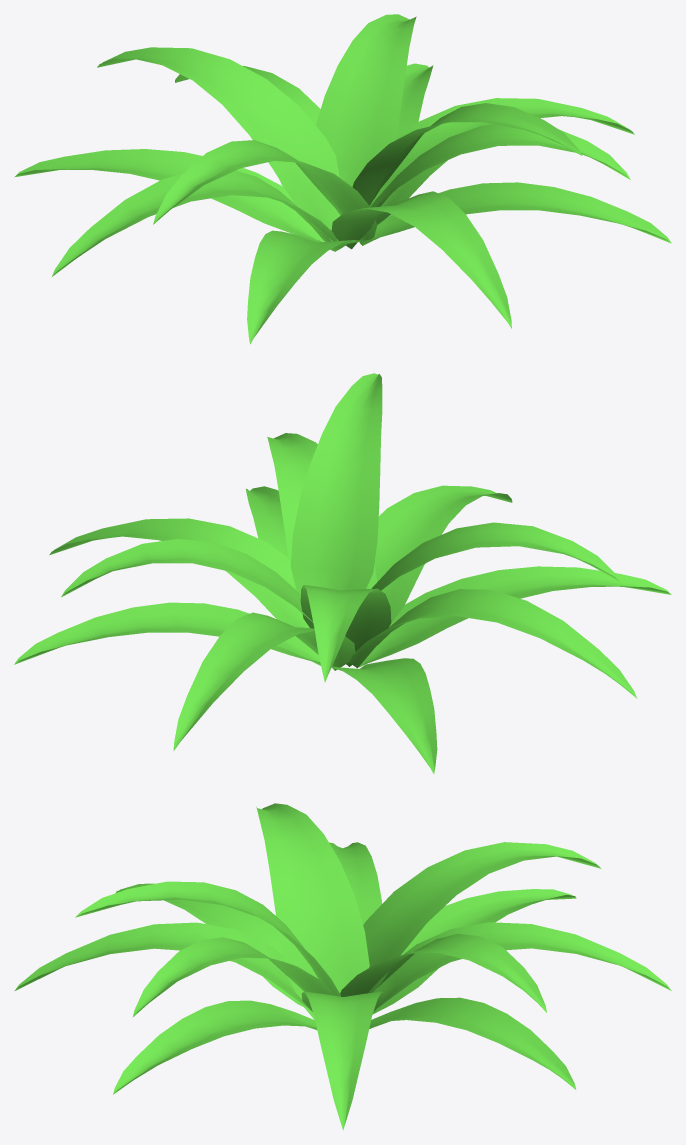
Rendered from Fern3.fbx.
3 views of the same model, one above another, from view 1: azimuth 30°, elevation 25°; view 2: azimuth 150°, elevation 25°; view 3: azimuth 270°, elevation 25° (orthographic). The views are drawn at different scales.
Parts seen in each view (by area): view 1: Plane.001; view 2: Plane.001; view 3: Plane.001.
Part boxes in pixels (x1,y1,x2,y2): Plane.001: [14, 14, 671, 344]; Plane.001: [14, 373, 671, 773]; Plane.001: [14, 803, 671, 1130].
Size of the model in its own units: 1583 by 465 by 1581.
